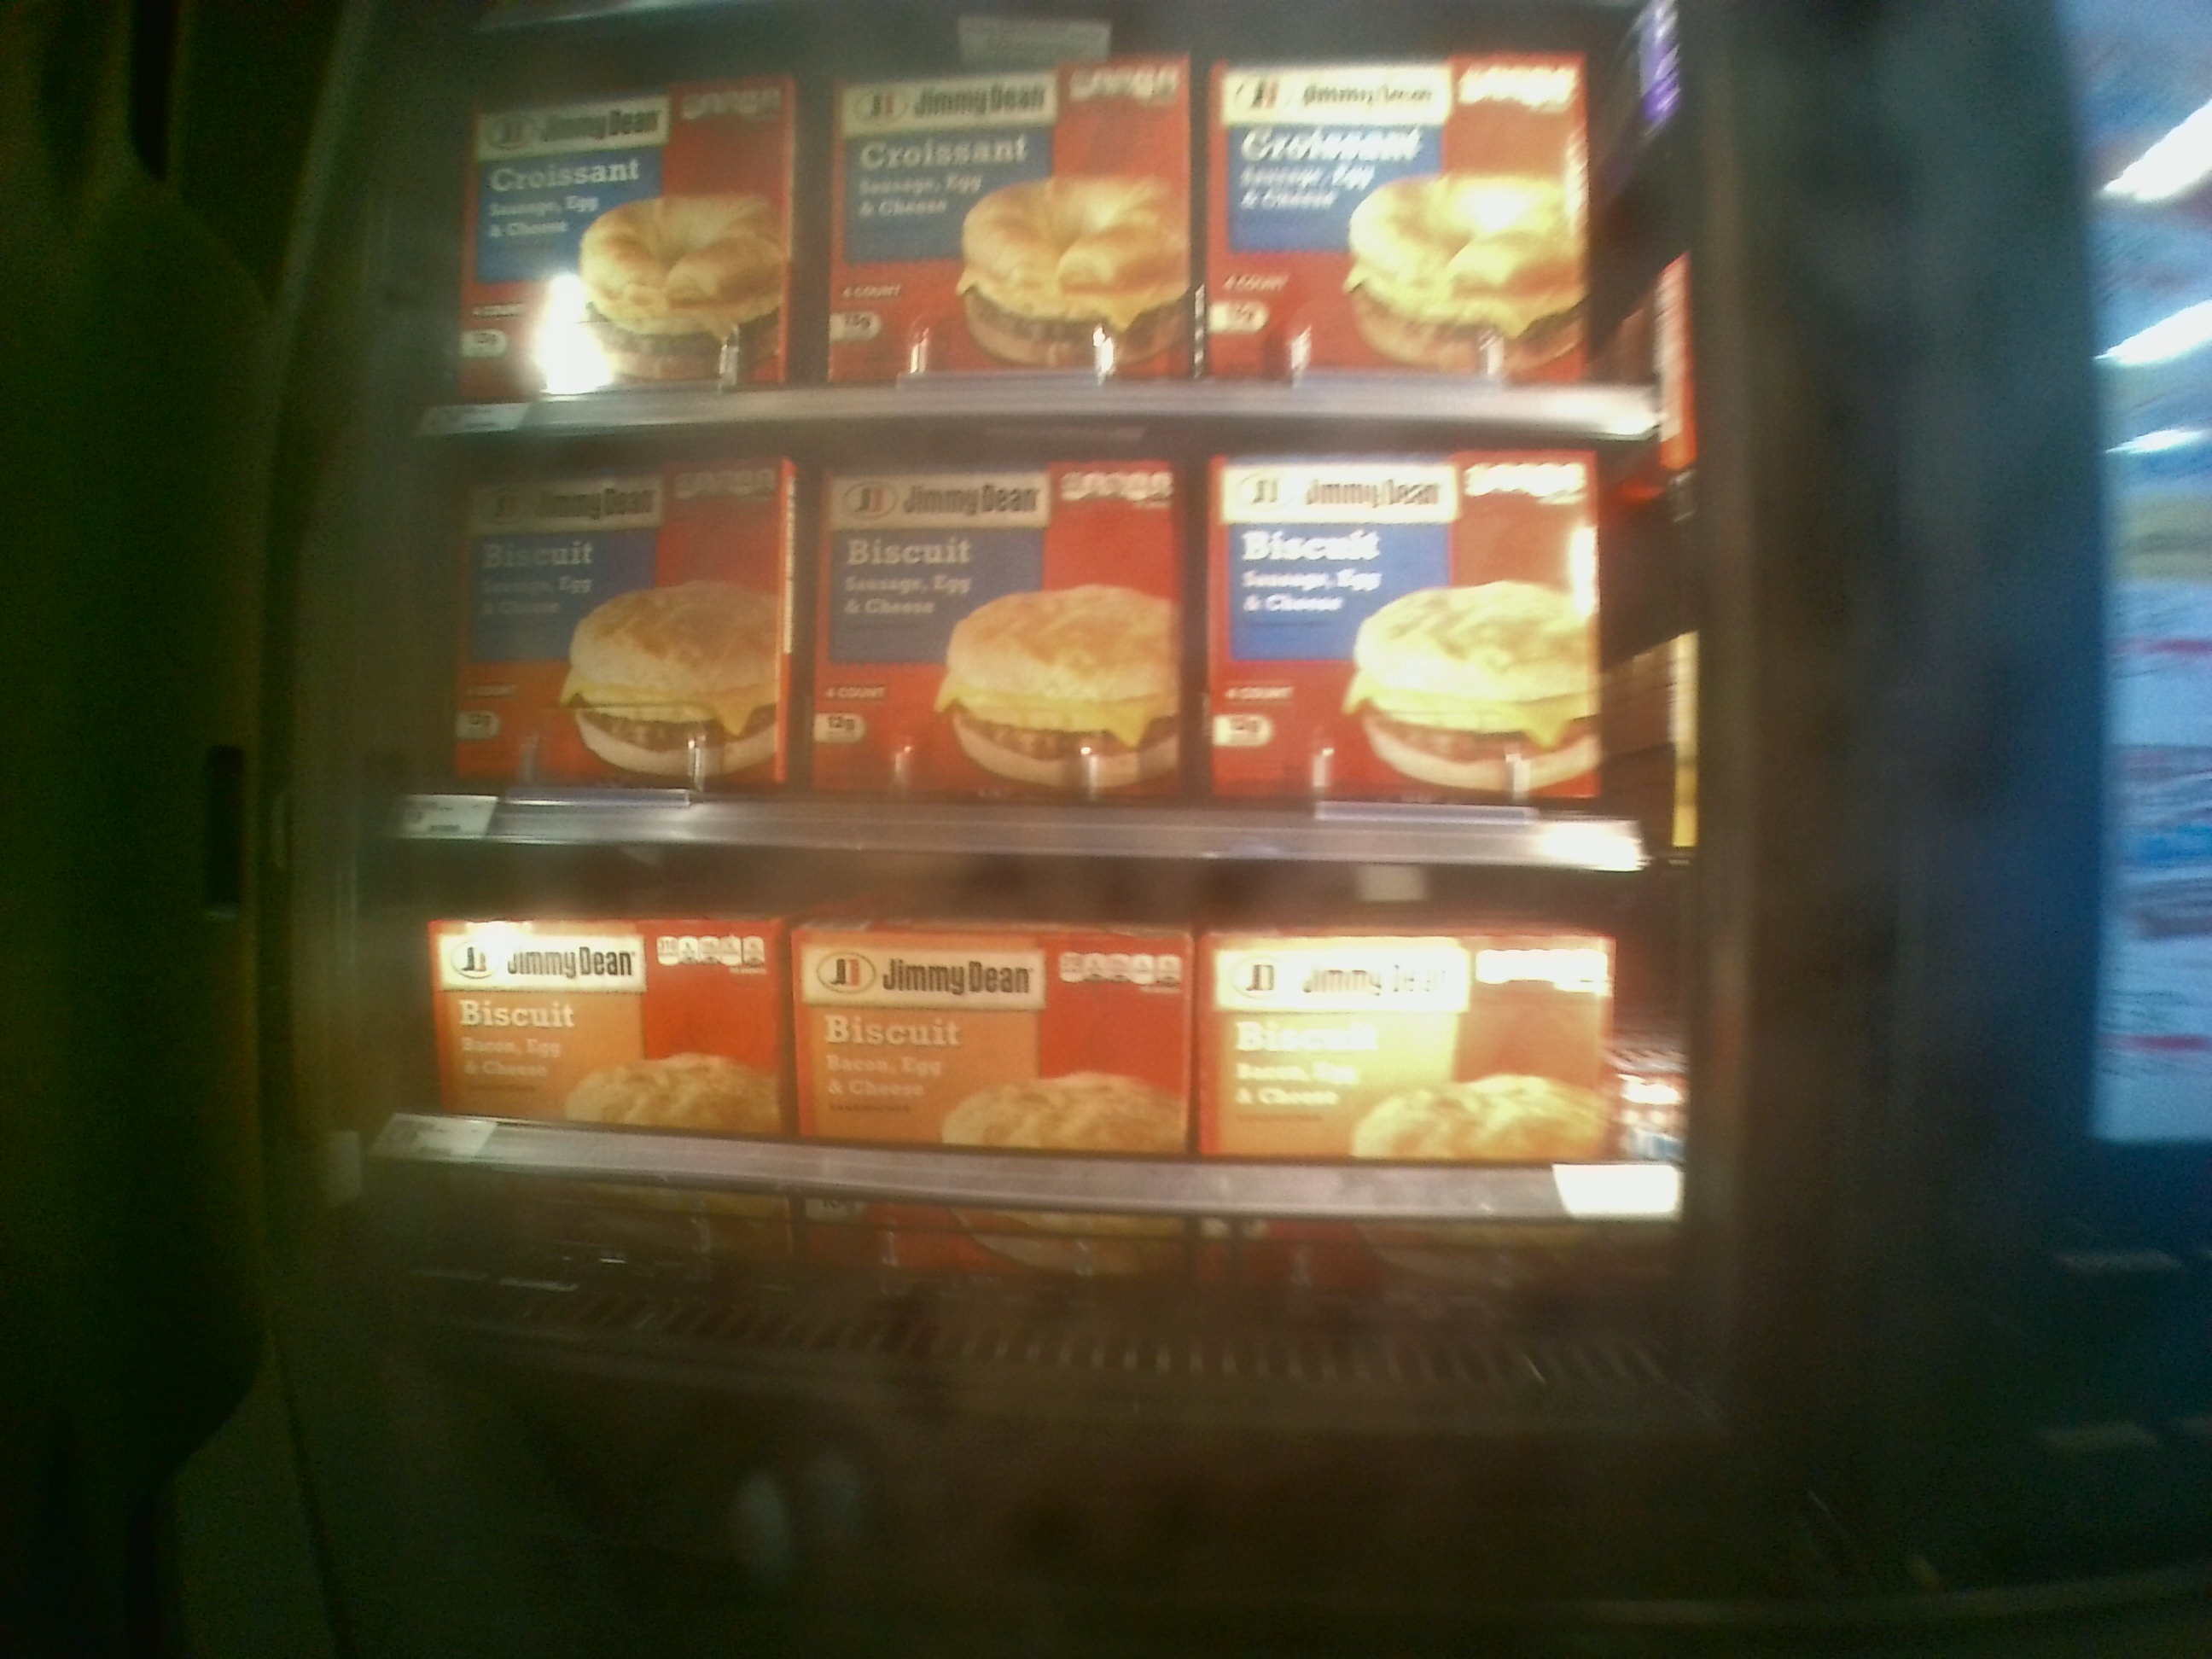shelf: (369, 852, 1702, 1344), (388, 420, 1676, 871)
